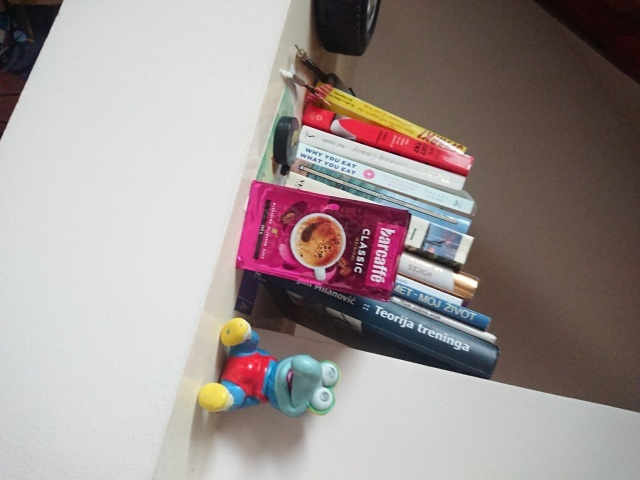Barcaffe Classic Original 225g: (232, 177, 414, 304)
